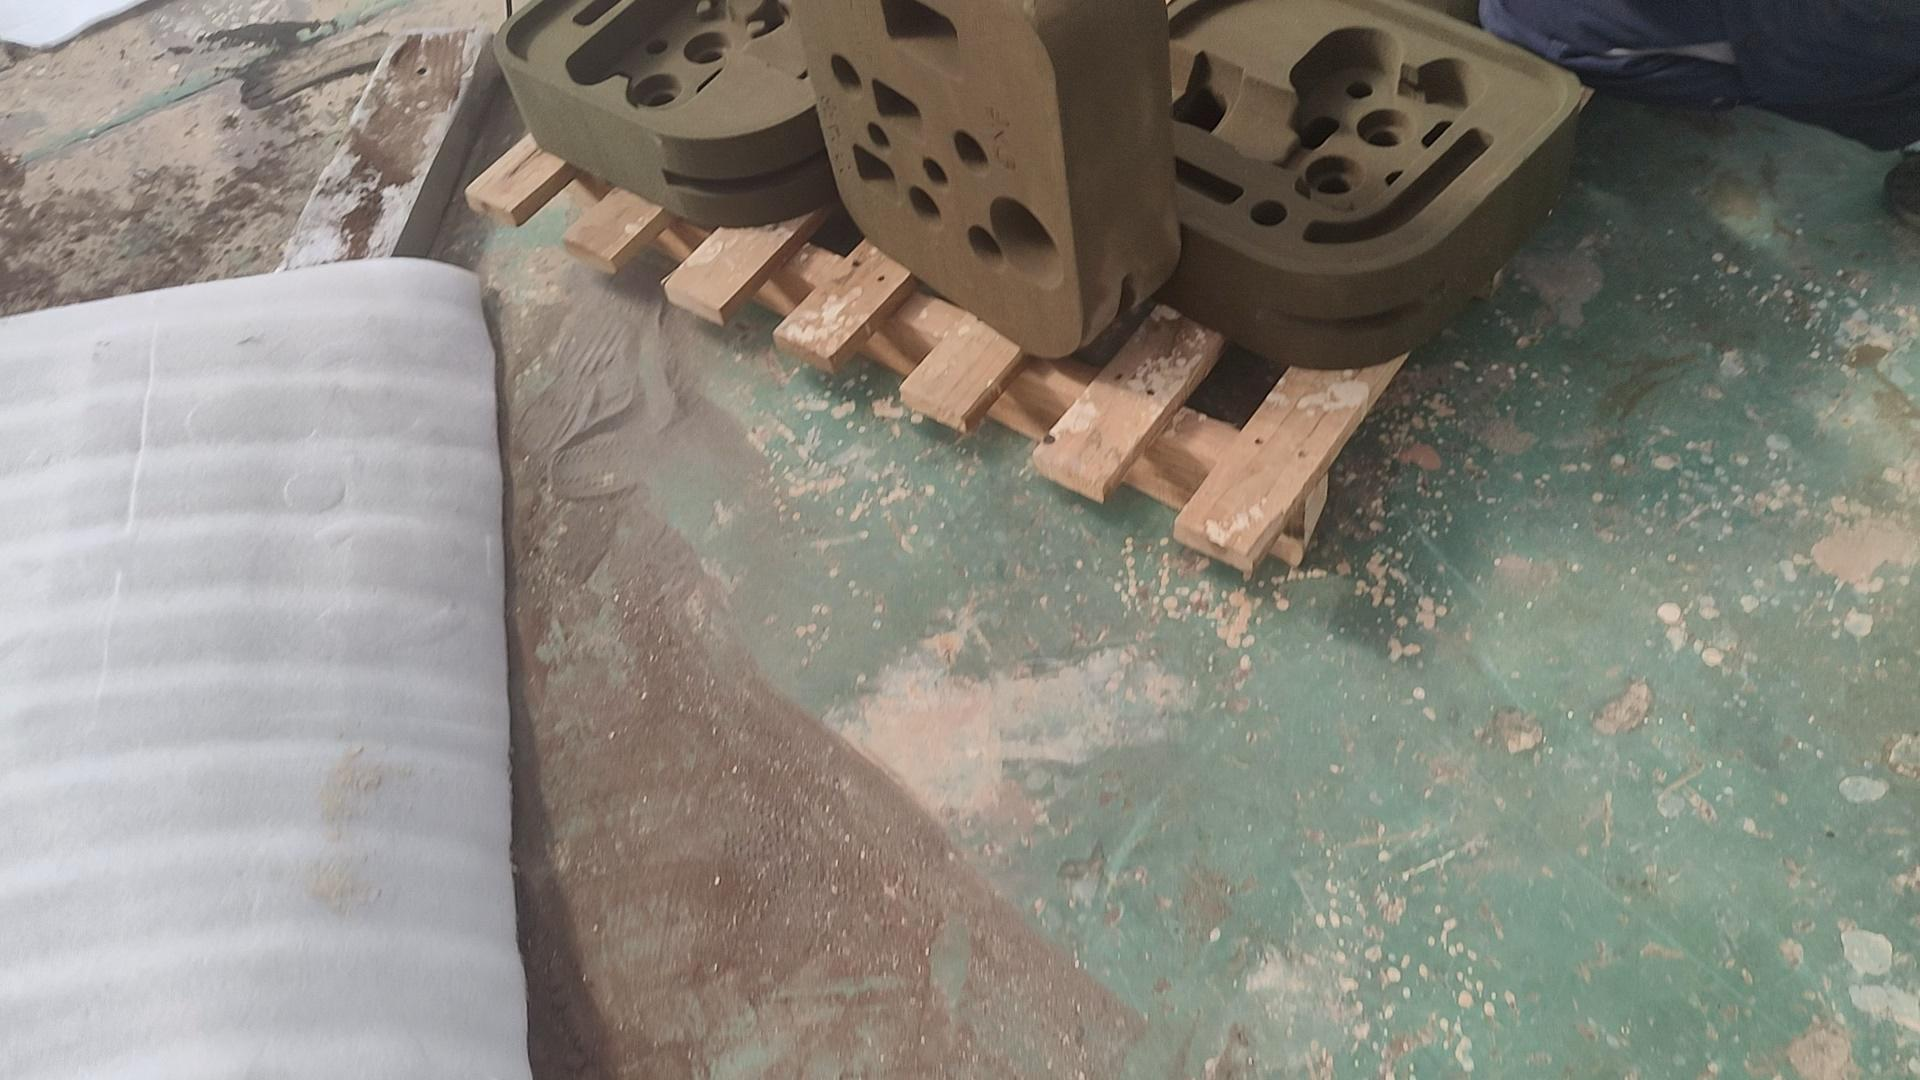pouring hole: (992, 195, 1064, 289)
